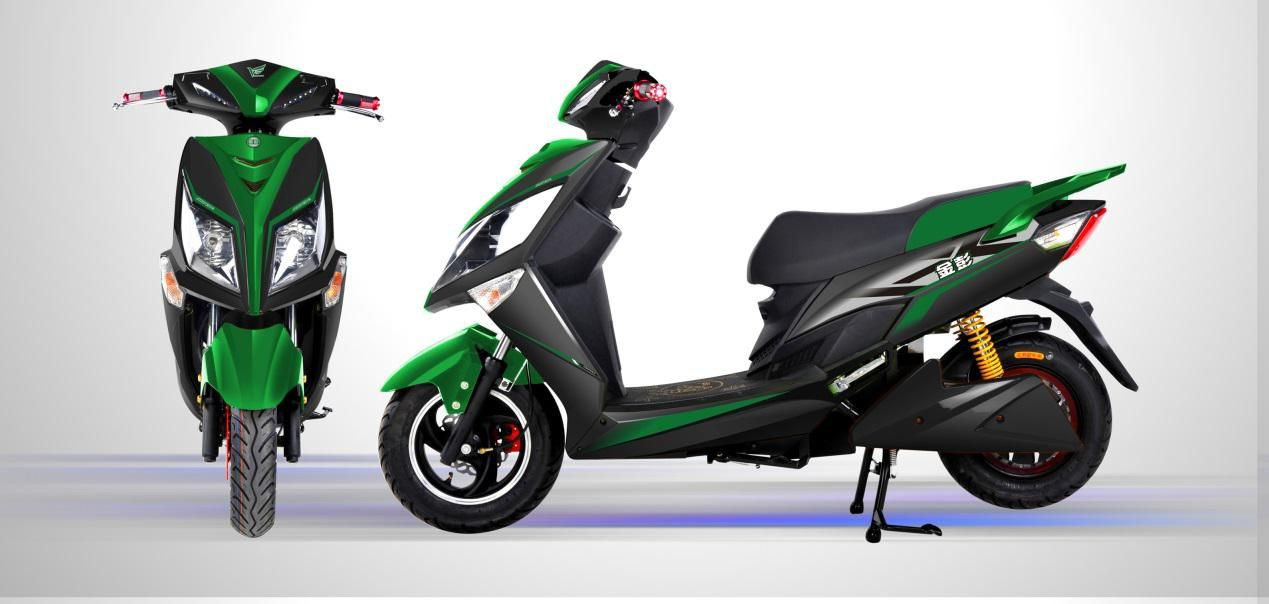non-vehicle: (370, 69, 1133, 536), (117, 67, 384, 538)
